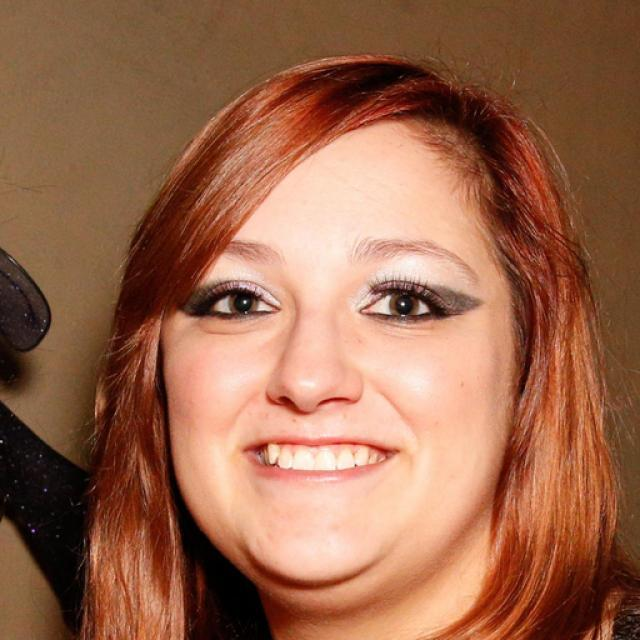happy: (149, 110, 519, 588)
